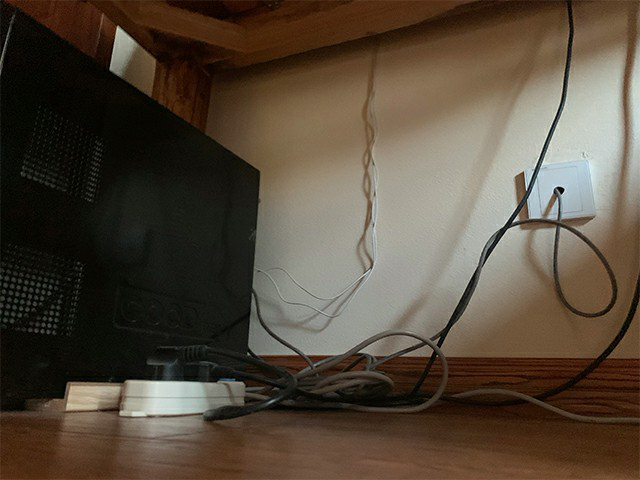wire: (120, 1, 640, 422)
